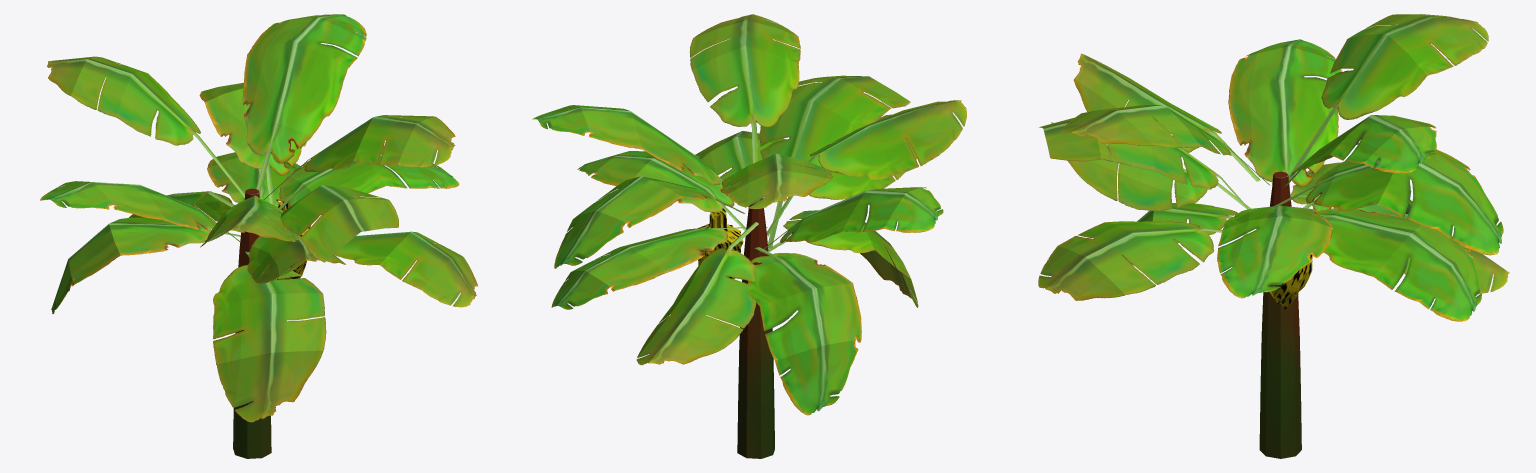
Rendered from Bananeira_Final.fbx.
3 renders of one model, left to right at view 1: azimuth 30°, elevation 25°; view 2: azimuth 150°, elevation 25°; view 3: azimuth 270°, elevation 25°, orthographic. The views are drawn at different scales.
Parts seen in each view (by area): view 1: Bananeira; view 2: Bananeira; view 3: Bananeira.
Boxes of the visible parts, bbox=[...] form: Bananeira: bbox=[40, 14, 477, 458]; Bananeira: bbox=[532, 14, 966, 458]; Bananeira: bbox=[1038, 14, 1509, 458].
Size of the model in its own units: 1204 by 1057 by 1264.
1 material, 1 textured.
